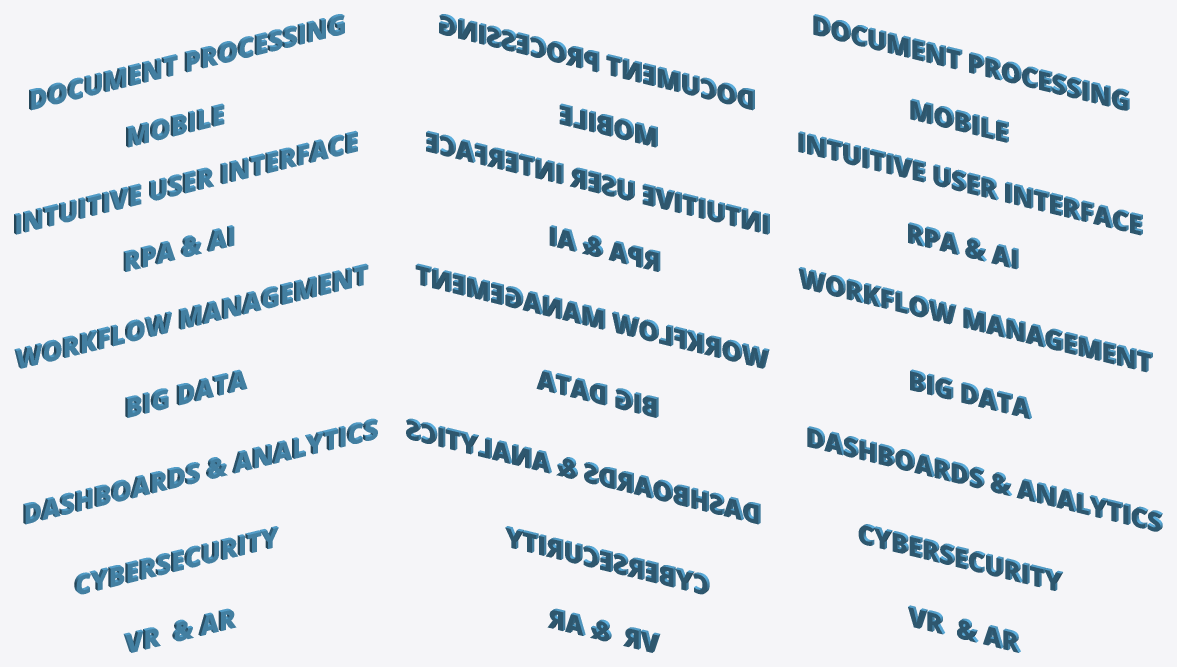
The model's file is Services.fbx.
The picture shows the model from 3 angles, left to right: view 1: azimuth 30°, elevation 25°; view 2: azimuth 150°, elevation 25°; view 3: azimuth 330°, elevation 25°; orthographic projection.
Parts seen in each view (by area): view 1: Shape1.012, Shape1.010, Shape1.014, Shape1.008, Shape1.015, Shape1.013, Shape1.009, Shape1.011, Shape1.016; view 2: Shape1.012, Shape1.010, Shape1.014, Shape1.008, Shape1.015, Shape1.013, Shape1.009, Shape1.011, Shape1.016; view 3: Shape1.012, Shape1.014, Shape1.010, Shape1.008, Shape1.015, Shape1.013, Shape1.009, Shape1.011, Shape1.016.
Part boxes in pixels (x1,y1,x2,y2): Shape1.012: [14, 263, 368, 368]; Shape1.010: [14, 130, 357, 234]; Shape1.014: [23, 418, 377, 524]; Shape1.008: [29, 14, 344, 110]; Shape1.015: [74, 526, 278, 594]; Shape1.013: [125, 369, 247, 417]; Shape1.009: [126, 103, 224, 147]; Shape1.011: [123, 225, 234, 271]; Shape1.016: [123, 608, 236, 652]; Shape1.012: [415, 263, 769, 368]; Shape1.010: [426, 130, 769, 234]; Shape1.014: [406, 418, 760, 524]; Shape1.008: [439, 14, 754, 110]; Shape1.015: [505, 526, 709, 594]; Shape1.013: [536, 369, 658, 417]; Shape1.009: [559, 103, 657, 147]; Shape1.011: [549, 225, 660, 271]; Shape1.016: [547, 608, 660, 652]; Shape1.012: [798, 267, 1152, 372]; Shape1.014: [807, 426, 1162, 531]; Shape1.010: [798, 131, 1142, 235]; Shape1.008: [813, 14, 1129, 110]; Shape1.015: [858, 524, 1062, 590]; Shape1.013: [910, 369, 1031, 419]; Shape1.009: [910, 98, 1008, 142]; Shape1.011: [908, 222, 1018, 269]; Shape1.016: [908, 605, 1020, 652].
Bounding box in the file's own units: 2632 × 4080 × 28.56.
